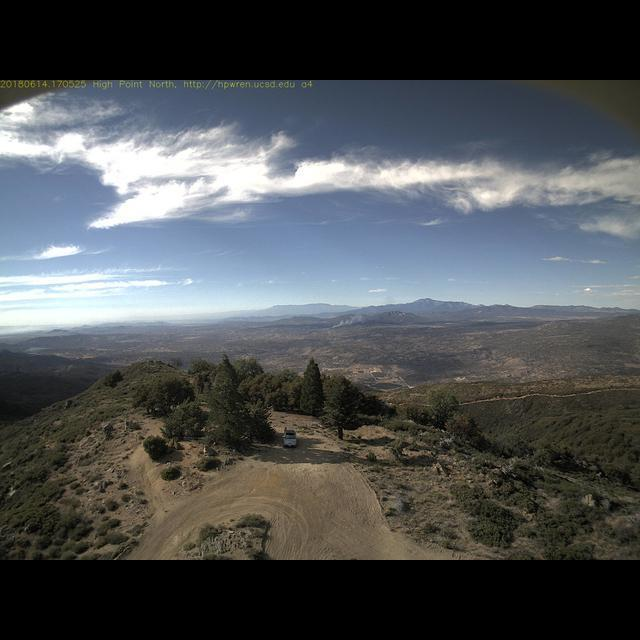Smoke: (327, 298, 386, 333)
